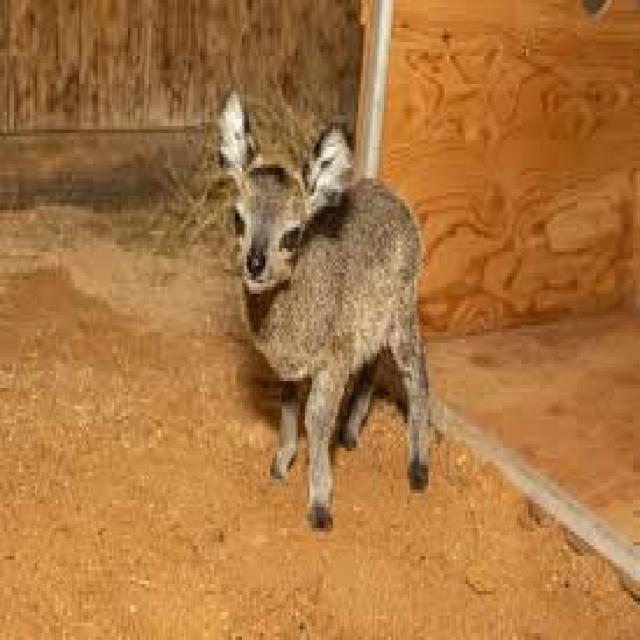Antelope: (214, 84, 435, 536)
